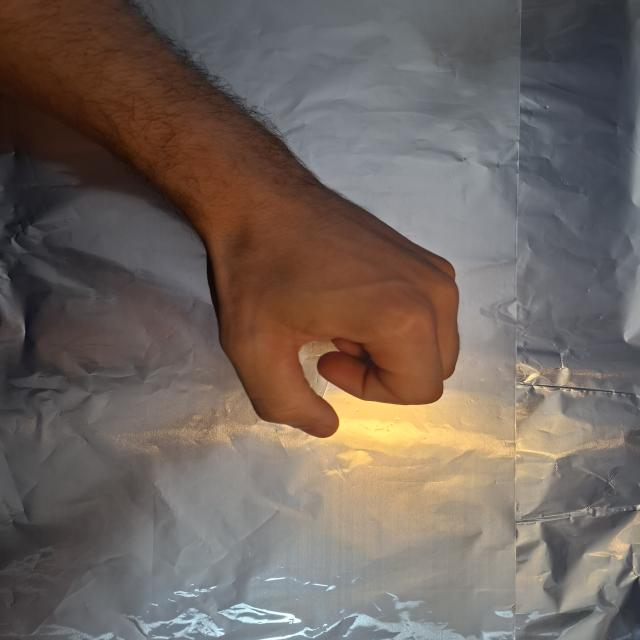glove_off: (197, 203, 463, 437)
